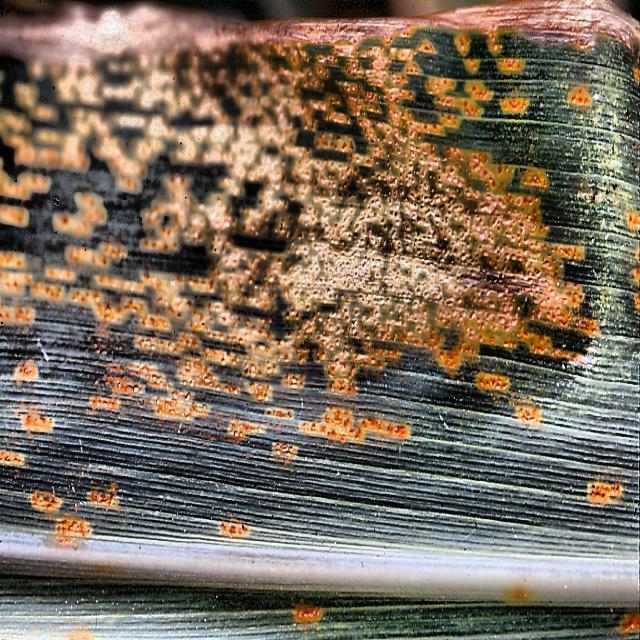common_rust: (4, 0, 640, 534)
